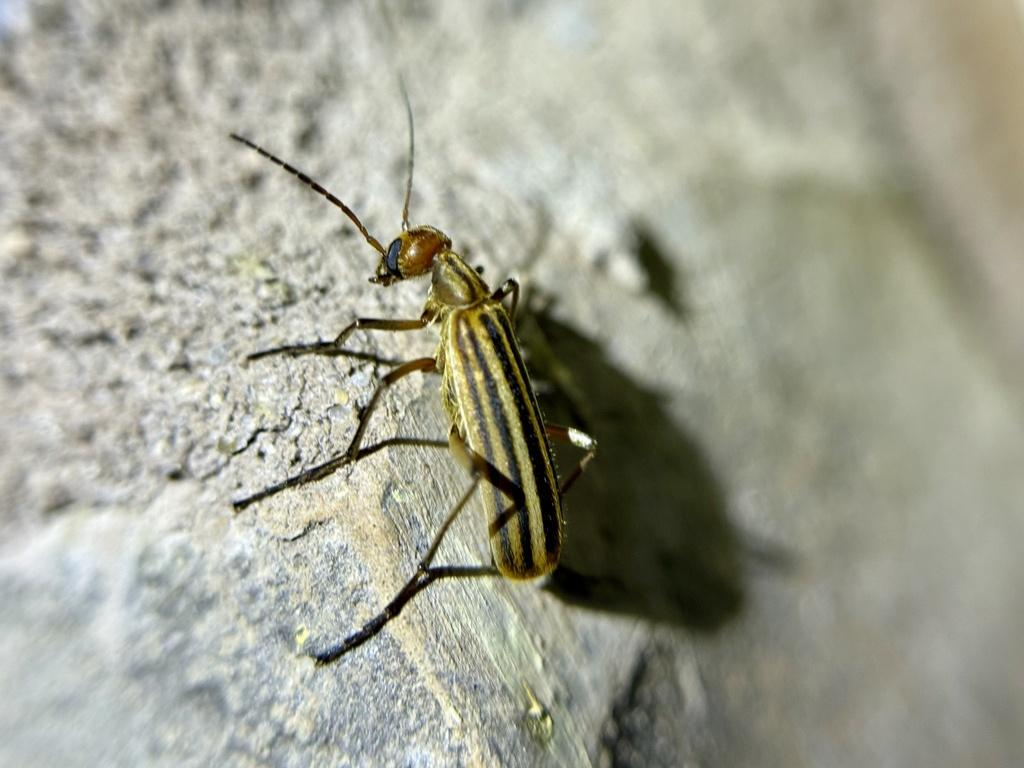blister_beetle: (148, 21, 654, 744)
